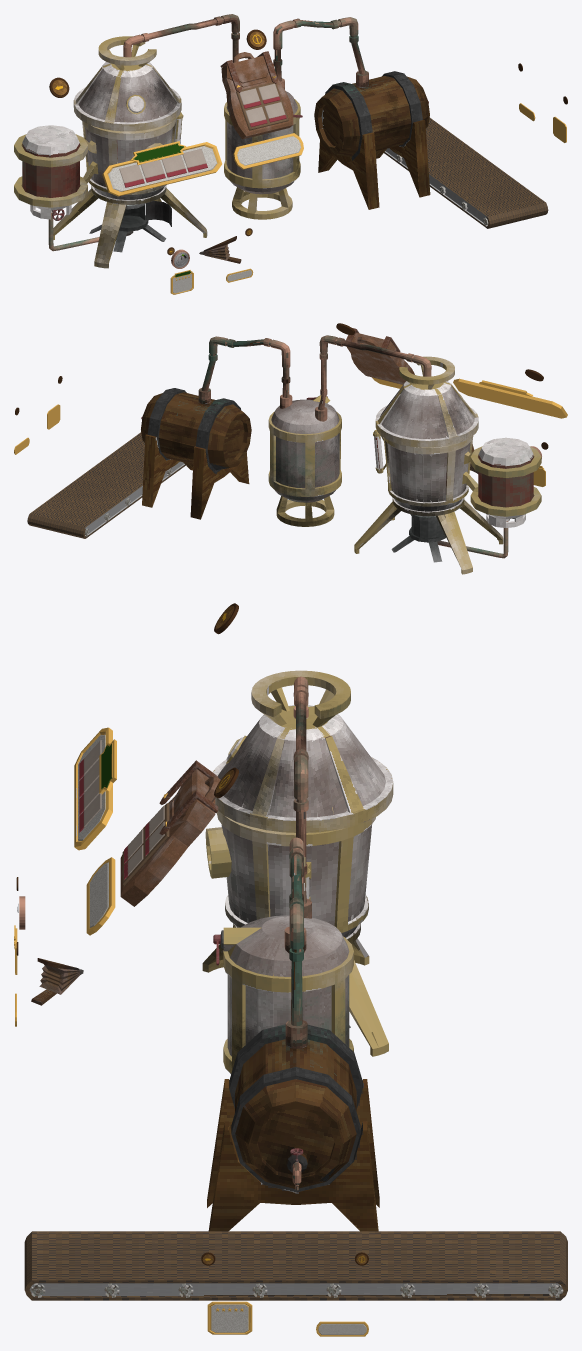
The model's file is Bimbermachine.glb.
3 views of the same model, one above another, from view 1: azimuth 30°, elevation 25°; view 2: azimuth 150°, elevation 25°; view 3: azimuth 270°, elevation 25° (orthographic). The views are drawn at different scales.
Parts seen in each view (by area): view 1: Valve_Barrel, Cauldron, Lid, Cube, Reinforcement, plecak, in_pot, przycisk_next, Fire_Place, title_frame, in_plecak, Door (+6 smaller); view 2: Cauldron, Valve_Barrel, Reinforcement, Lid, Cube, plecak, in_pot, Fire_Place; view 3: Cube, Valve_Barrel, Lid, Cauldron, Reinforcement, plecak, in_pot, przycisk_next, quality_metter.001, bellow.
Part boxes in pixels (x1,y1,x2,y2): Valve_Barrel: [273, 17, 430, 209]; Cauldron: [14, 112, 207, 268]; Lid: [73, 14, 239, 131]; Cube: [384, 117, 548, 228]; Reinforcement: [224, 91, 300, 219]; plecak: [221, 52, 293, 139]; in_pot: [102, 142, 222, 196]; przycisk_next: [233, 133, 303, 169]; Fire_Place: [48, 203, 166, 252]; title_frame: [130, 141, 186, 164]; in_plecak: [236, 82, 288, 130]; Door: [146, 201, 171, 226]; Cauldron: [354, 429, 541, 574]; Valve_Barrel: [141, 336, 292, 519]; Reinforcement: [268, 395, 341, 526]; Lid: [315, 335, 478, 447]; Cube: [27, 432, 185, 538]; plecak: [347, 332, 414, 384]; in_pot: [453, 378, 567, 418]; Fire_Place: [391, 514, 508, 562]; Cube: [24, 1231, 567, 1300]; Valve_Barrel: [207, 837, 379, 1231]; Lid: [212, 670, 393, 918]; Cauldron: [202, 736, 388, 1056]; Reinforcement: [223, 915, 353, 1073]; plecak: [120, 769, 220, 906]; in_pot: [74, 727, 112, 850]; przycisk_next: [86, 857, 115, 935]; quality_metter.001: [207, 1301, 252, 1334]; bellow: [31, 958, 83, 1005].
Size of the model in its own units: 8.71 by 3.24 by 4.67.
Materials: 27 (27 with a texture image).
